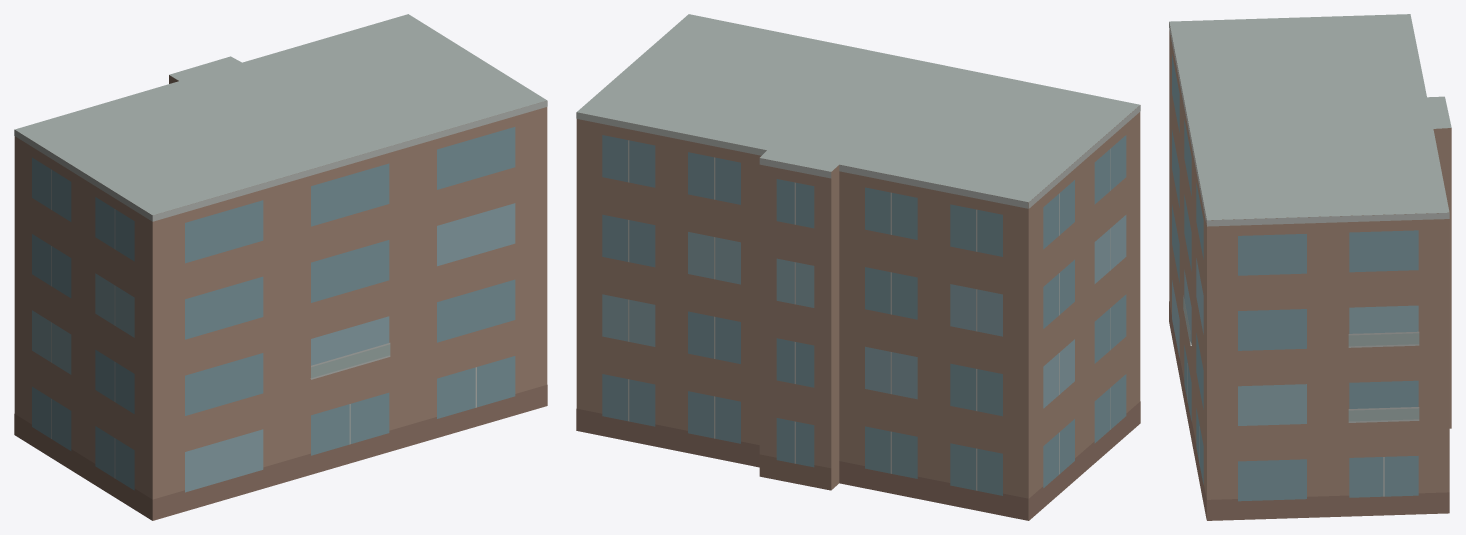
The model's file is survey-upis-32756459.glb.
3 views of the same model, side by side, from view 1: azimuth 30°, elevation 25°; view 2: azimuth 150°, elevation 25°; view 3: azimuth 270°, elevation 25° (orthographic). The views are drawn at different scales.
Parts seen in each view (by area): view 1: survey-upis-32756459.tmp; view 2: survey-upis-32756459.tmp; view 3: survey-upis-32756459.tmp.
Boxes of the visible parts, bbox=[...] form: survey-upis-32756459.tmp: bbox=[14, 14, 547, 520]; survey-upis-32756459.tmp: bbox=[576, 14, 1140, 520]; survey-upis-32756459.tmp: bbox=[1169, 14, 1451, 520].
Bounding box in the file's own units: 17.22 × 11.7 × 9.97.
